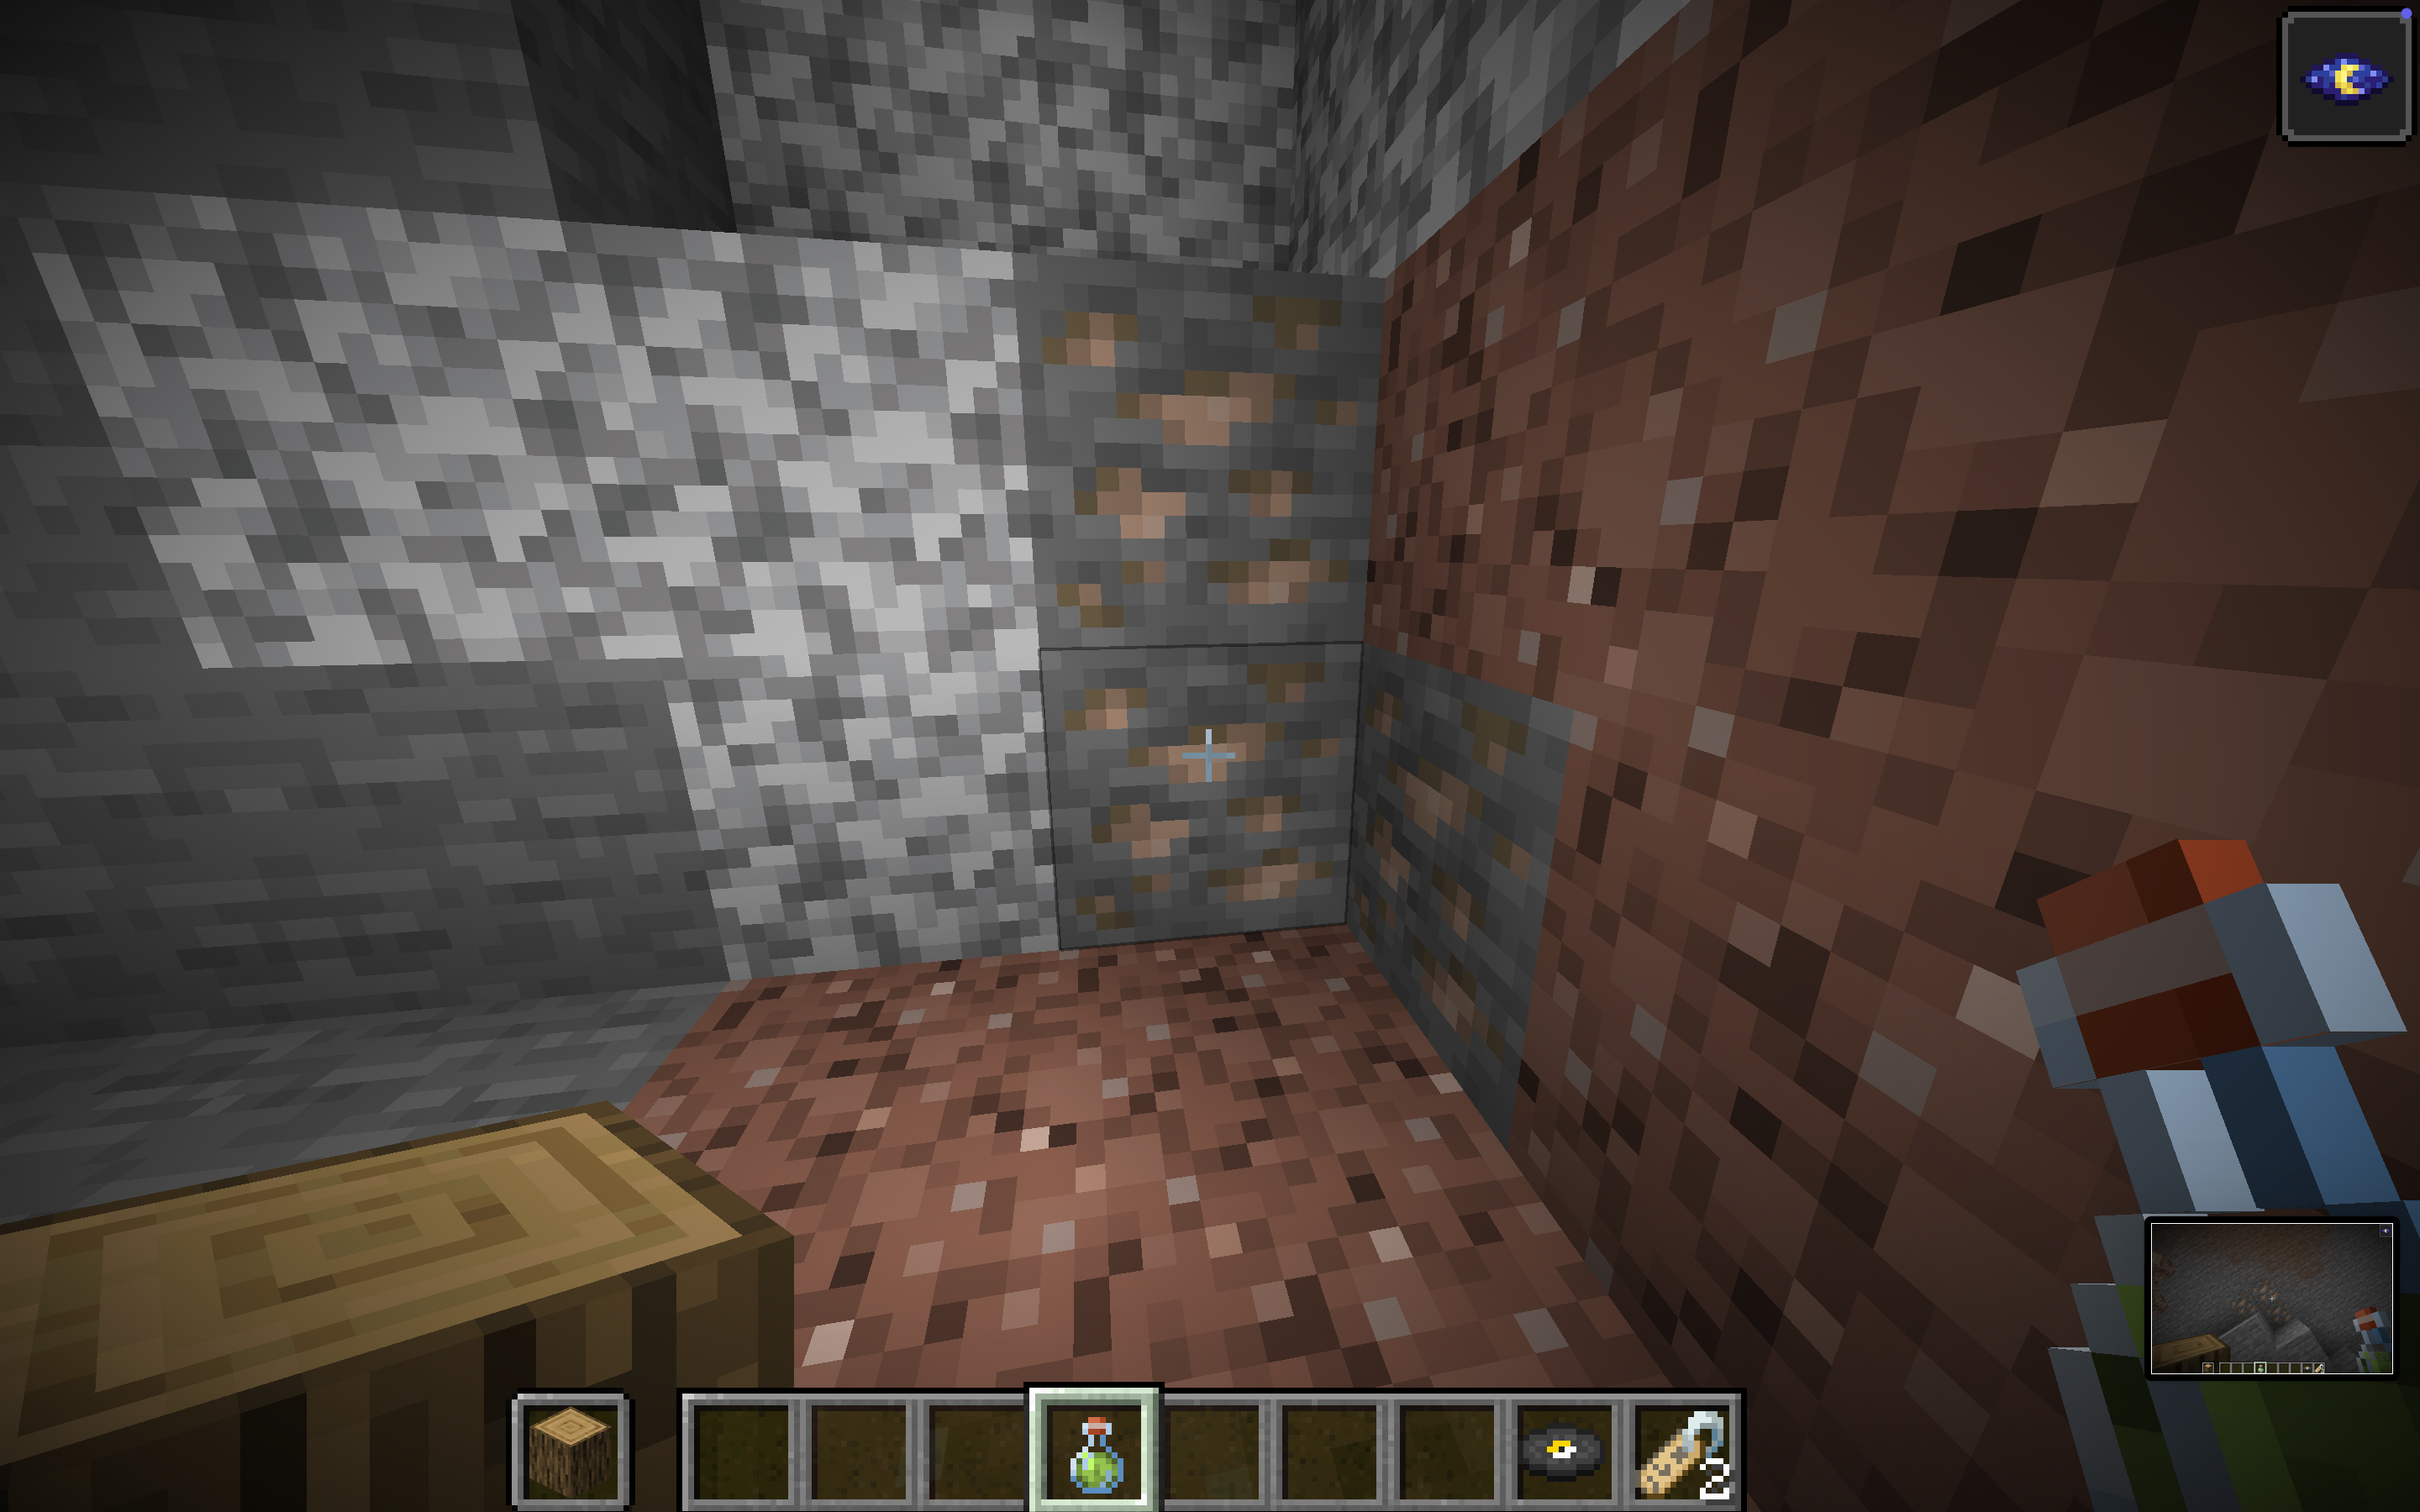iron: (523, 124, 1765, 1132)
